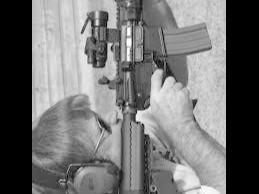gun: (80, 0, 206, 194)
